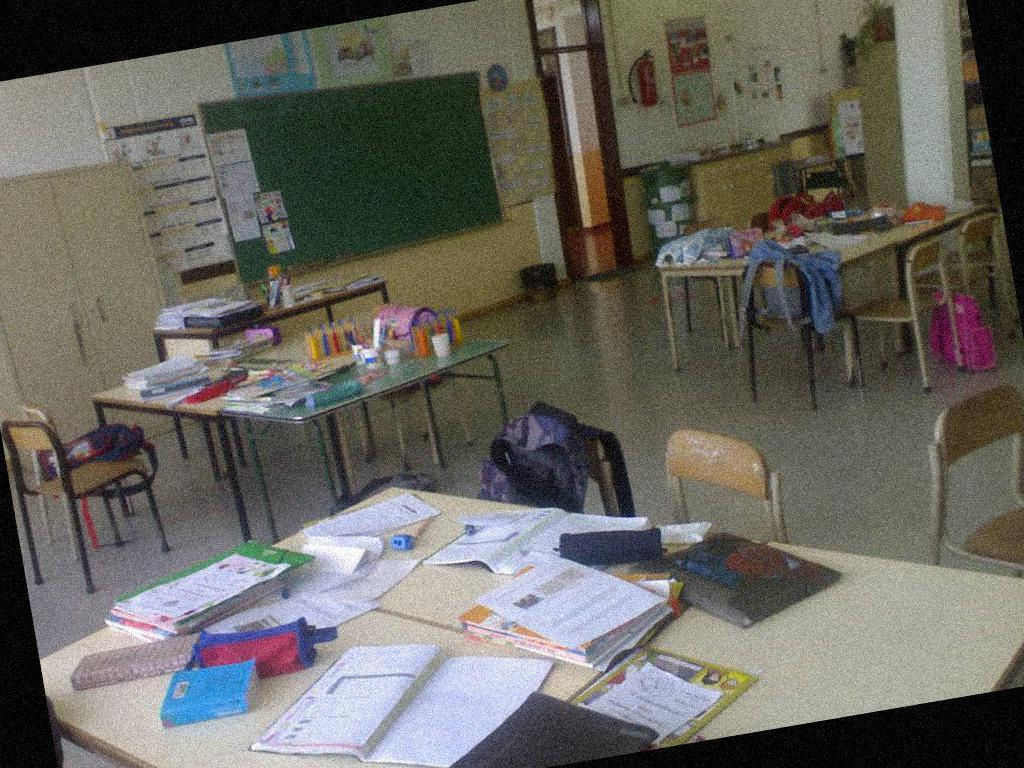Armario: (0, 162, 190, 461)
Bote de Basura: (634, 142, 708, 258), (515, 256, 570, 308)
Puerta: (540, 49, 626, 271)
